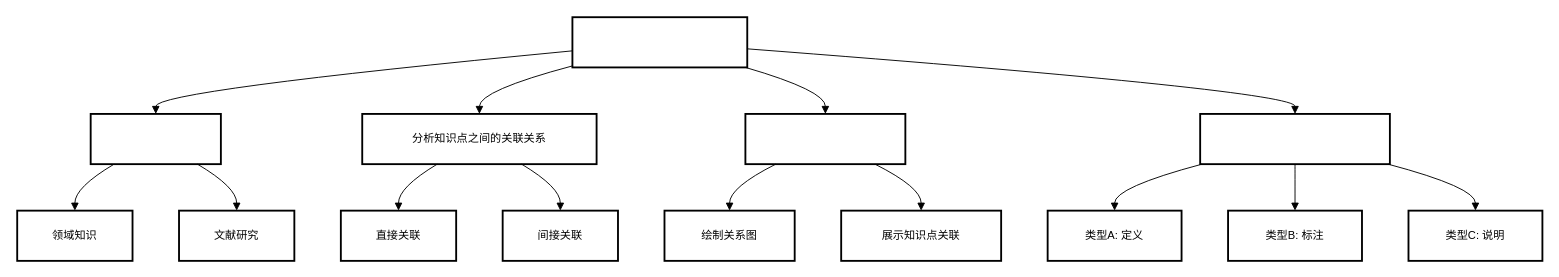
This 1559x277 diagram has some shape labels left out. Each missing label, with the centre of its shape:
"使用图形化工具" belongs at point 825,139.
"图谱知识规则构建" belongs at point 659,42.
"定义不同类型的关系" belongs at point 1294,139.
"提取知识点" belongs at point 155,139.
